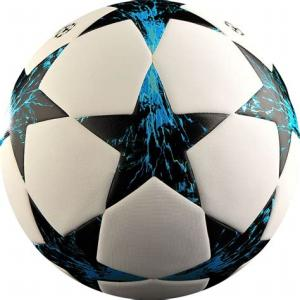Football: (0, 1, 300, 300)
